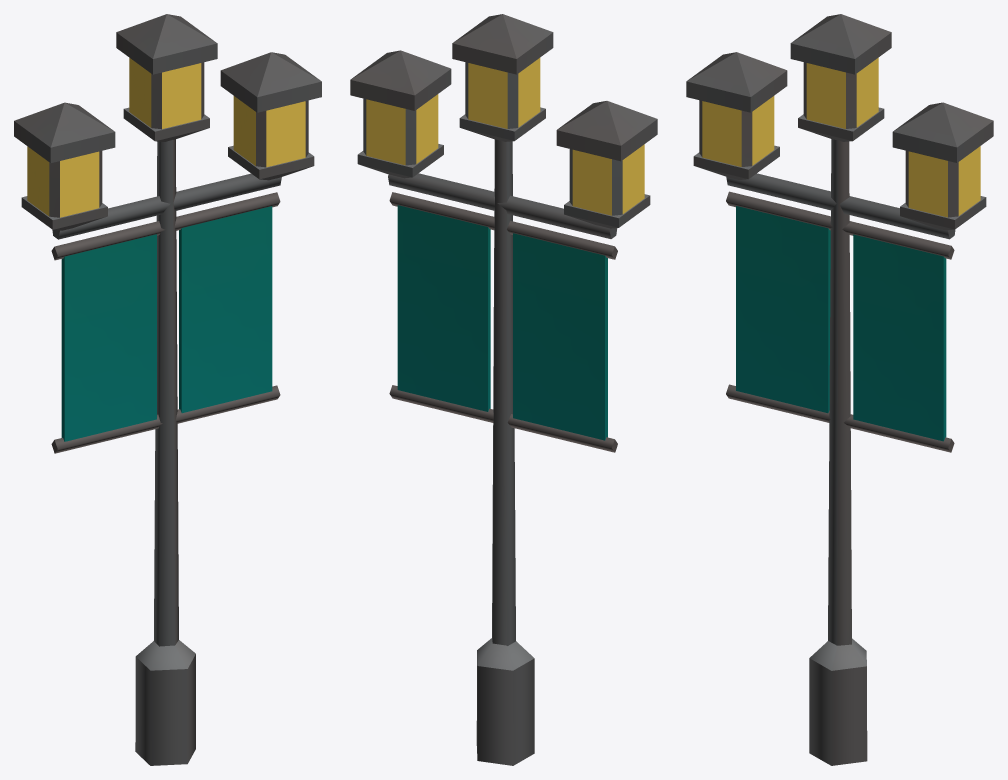
Rendered from lamp_post_002.glb.
3 views of the same model, side by side, from view 1: azimuth 30°, elevation 25°; view 2: azimuth 150°, elevation 25°; view 3: azimuth 330°, elevation 25° (orthographic).
Parts seen in each view (by area): view 1: lamp_post_002; view 2: lamp_post_002; view 3: lamp_post_002.
Boxes of the visible parts, <box> form: lamp_post_002: <box>14,14,321,765</box>; lamp_post_002: <box>350,14,657,765</box>; lamp_post_002: <box>686,14,993,765</box>.
Bounding box in the file's own units: 1.94 × 5.05 × 0.4686.
Materials: 2 (2 with a texture image).
